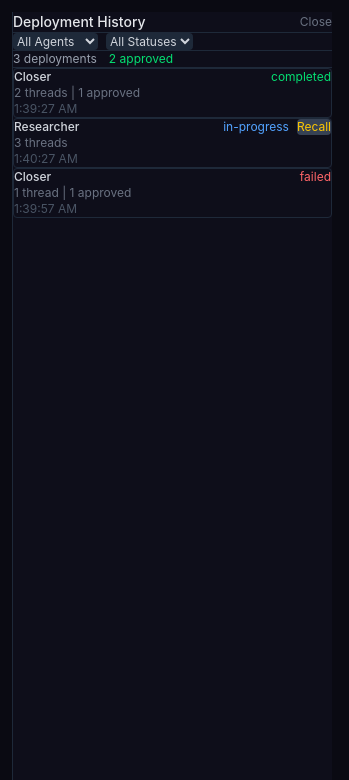
Deployment history filters › resetting filter to all shows everything again
Select "Researcher" in the dropdown with test id "filter-role": (56, 42) [13,33,98,50]
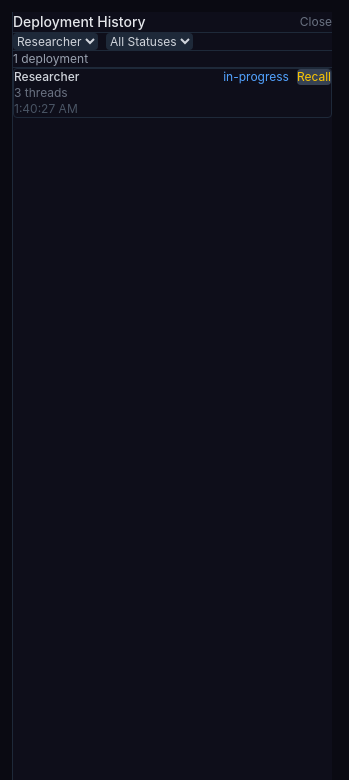
Expected: the element with test id "deployment-d1" is gone
Select "All Agents" in the dropdown with test id "filter-role": (56, 42) [13,33,98,50]
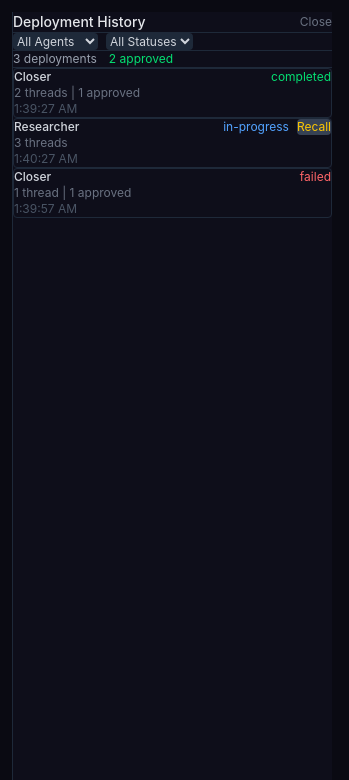
Expected: the element with test id "deployment-d2" is shown, [13,118,332,168]
Expected: the element with test id "deployment-d1" is shown, [13,68,332,118]
Expected: the element with test id "deployment-d3" is shown, [13,168,332,218]
